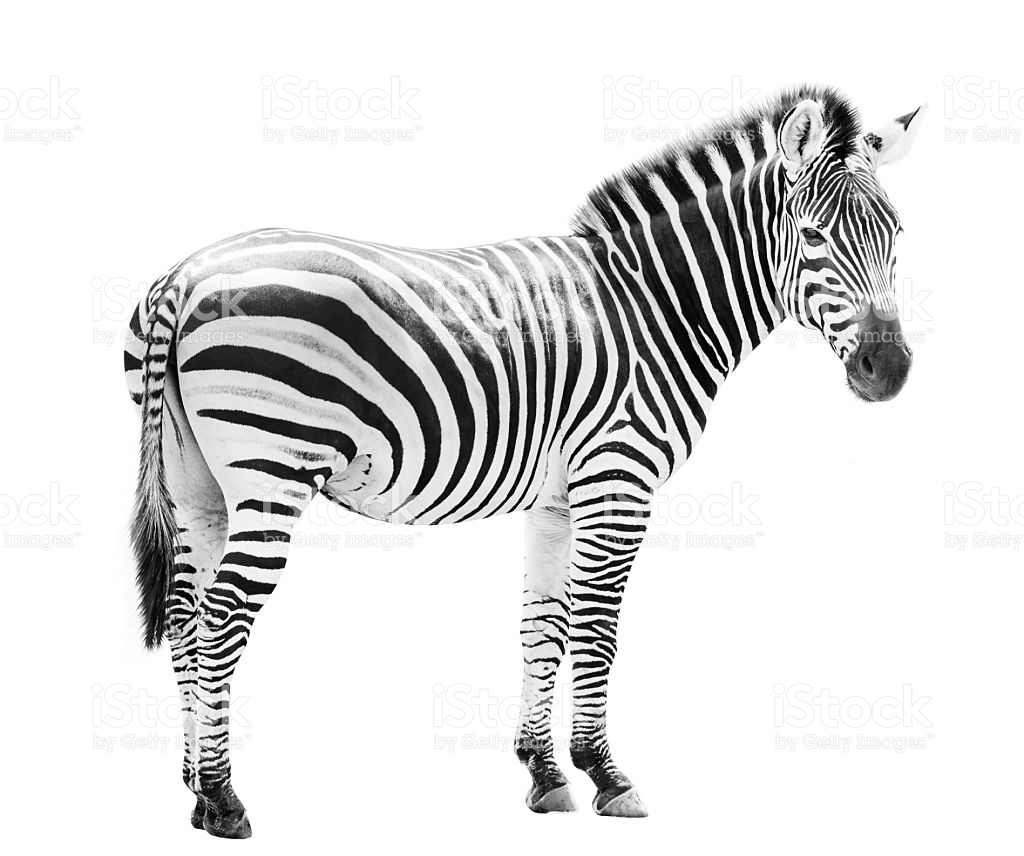zebra: (114, 94, 935, 854)
